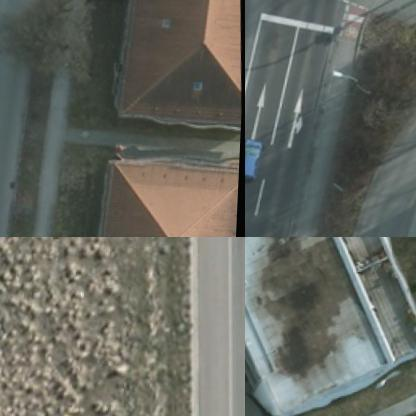car: (245, 143, 268, 184)
